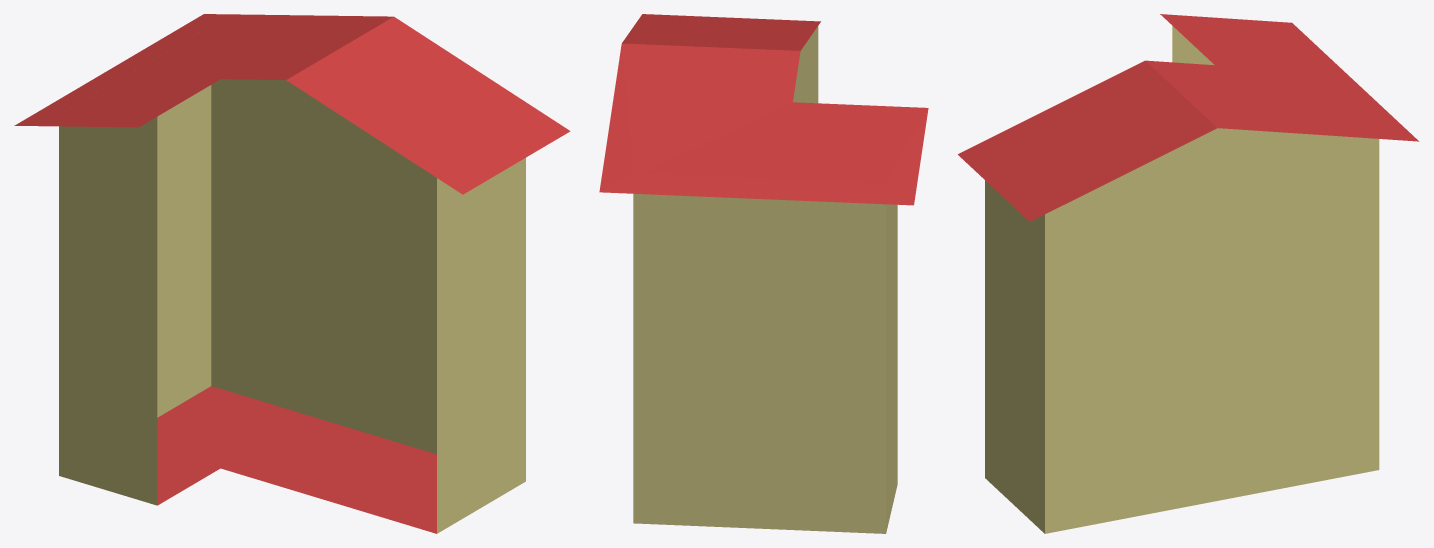
The picture shows the model from 3 angles, left to right: view 1: azimuth 30°, elevation 25°; view 2: azimuth 150°, elevation 25°; view 3: azimuth 270°, elevation 25°; orthographic projection. The views are drawn at different scales.
Size of the model in its own units: 7.53 by 7.61 by 7.03.
